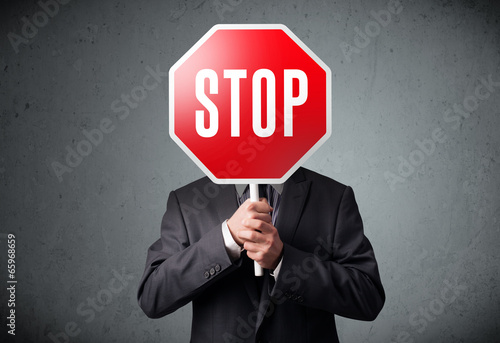StopSign: (168, 24, 331, 184)
